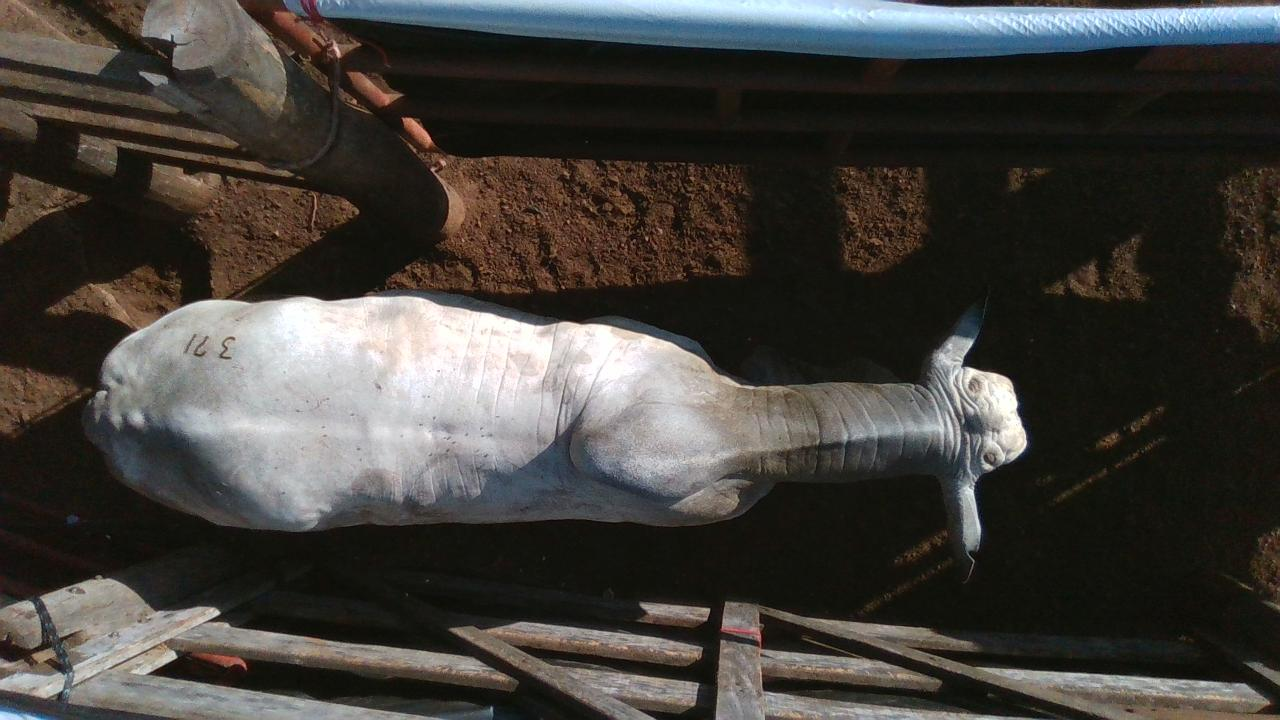cattle: (81, 284, 1029, 581)
